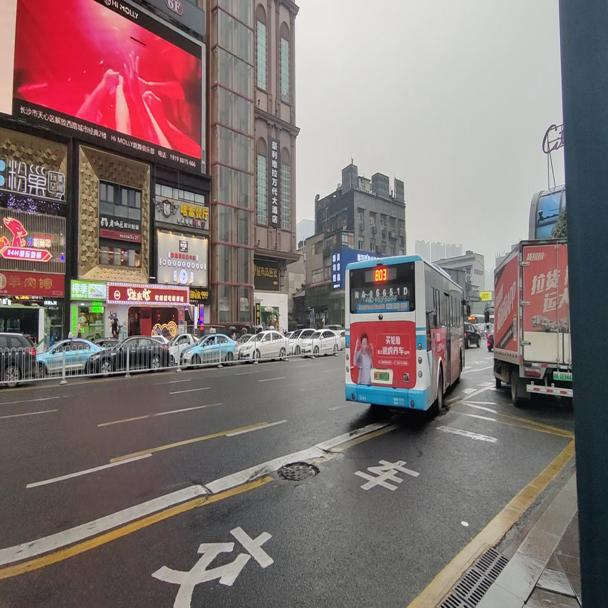bus: (343, 253, 470, 412)
screen: (374, 267, 386, 280)
